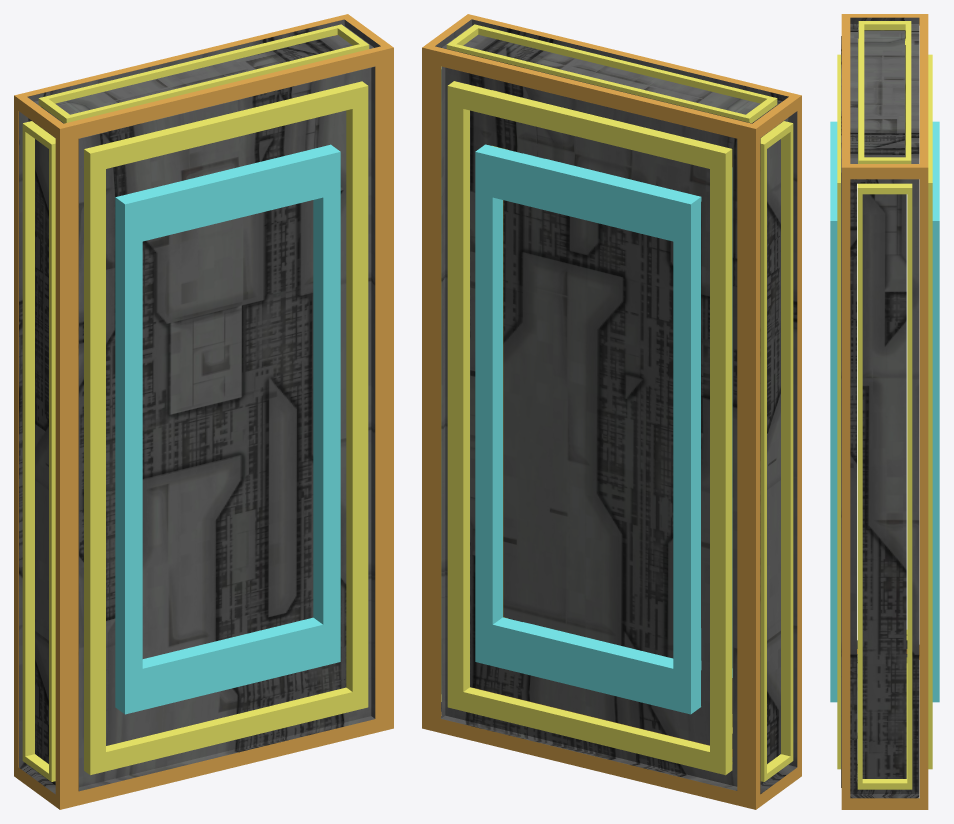
File: Standard_Platform_with_Color_Emission (1).fbx
3 views of the same model, side by side, from view 1: azimuth 30°, elevation 25°; view 2: azimuth 150°, elevation 25°; view 3: azimuth 270°, elevation 25° (orthographic). The views are drawn at different scales.
Parts seen in each view (by area): view 1: polySurface30, polySurface13, Corners___Orange, polySurface15, polySurface25, polySurface27; view 2: polySurface30, polySurface21, Corners___Orange, polySurface19, polySurface25, polySurface27, polySurface13; view 3: polySurface30, Corners___Orange, polySurface23, polySurface21, polySurface13, polySurface19, polySurface15, polySurface27, polySurface29.
Part boxes in pixels (box(x1,y1,x2,y2)): polySurface30: box(19, 19, 380, 794); polySurface13: box(115, 144, 340, 714); Corners___Orange: box(14, 14, 393, 809); polySurface15: box(84, 81, 368, 775); polySurface25: box(22, 121, 55, 781); polySurface27: box(38, 24, 369, 123); polySurface30: box(435, 19, 797, 794); polySurface21: box(475, 144, 700, 714); Corners___Orange: box(422, 14, 801, 809); polySurface19: box(447, 81, 732, 775); polySurface25: box(760, 121, 793, 781); polySurface27: box(446, 24, 777, 123); polySurface13: box(523, 153, 732, 677); polySurface30: box(841, 17, 919, 798); Corners___Orange: box(841, 14, 928, 809); polySurface23: box(857, 183, 912, 789); polySurface21: box(932, 121, 939, 702); polySurface13: box(830, 121, 837, 702); polySurface19: box(928, 54, 932, 769); polySurface15: box(837, 54, 840, 769); polySurface27: box(858, 21, 911, 163); polySurface29: box(906, 657, 907, 778).
Bounding box in the file's own units: 79.3 × 155 × 23.8.
